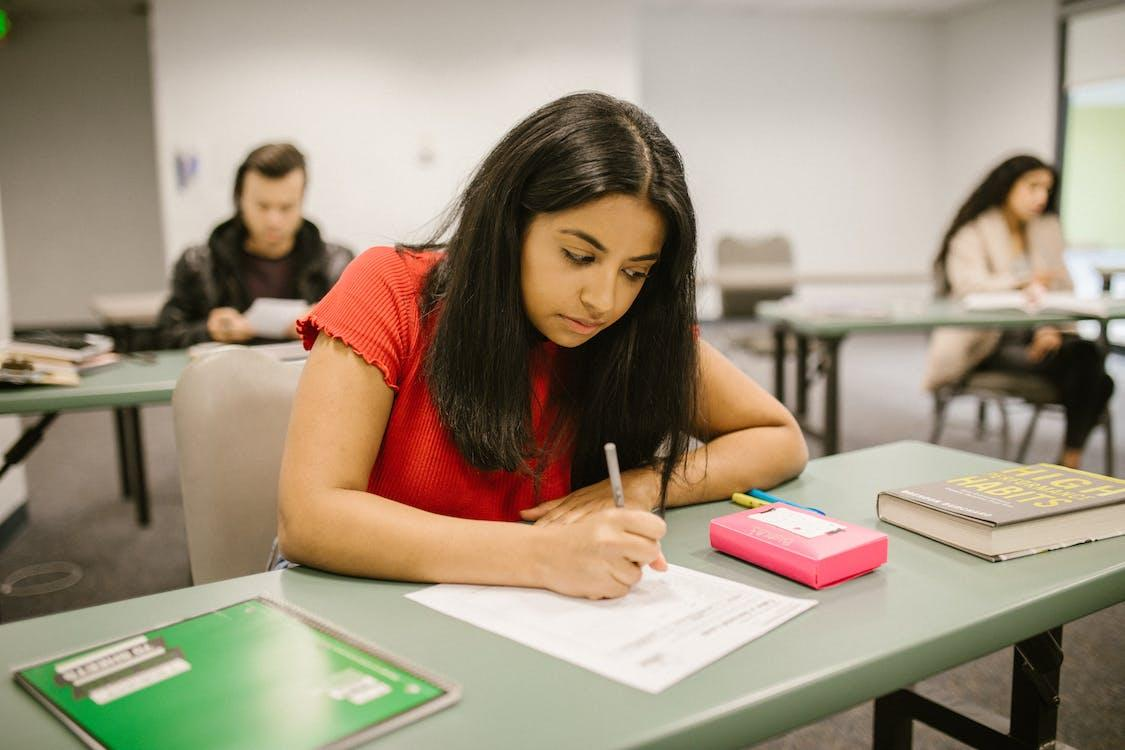good: (250, 75, 892, 701), (134, 112, 382, 375), (920, 139, 1125, 333)
